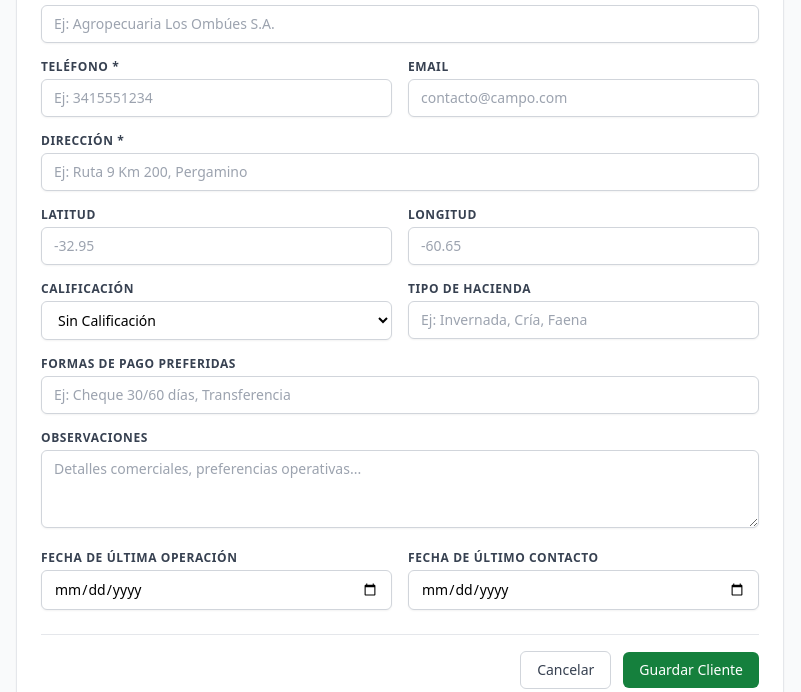
Test: ClienteForm › clears field-specific error when user types into that field
(page scrolled)
Click the button "Guardar Cliente" at point(691, 670), box [623,652,759,688]
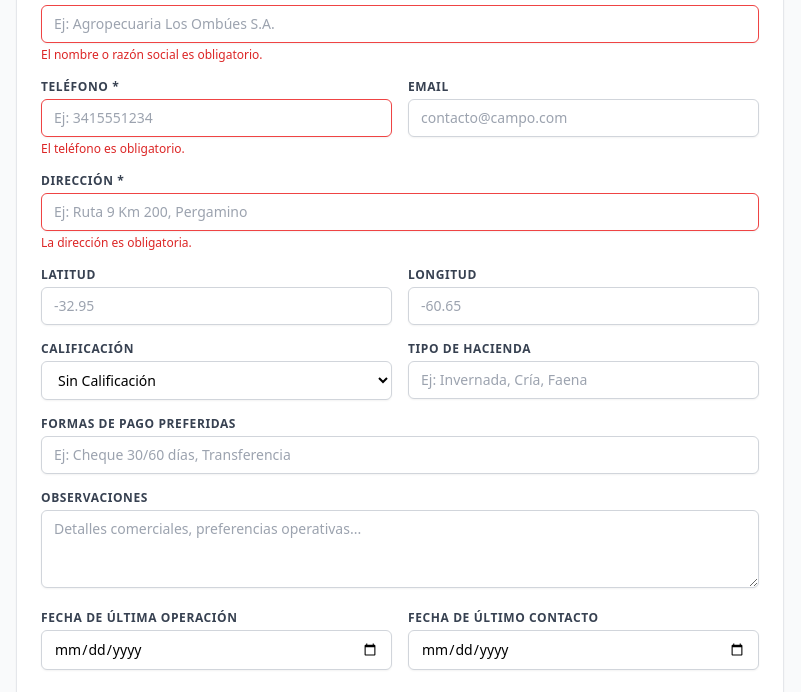
Now the text "El nombre o razón social es obligatorio." is shown, box [41,46,262,63]
Type "Agro Litoral" into the field labelled "Nombre / Razón Social *" at point(400, 24), box [41,5,759,43]
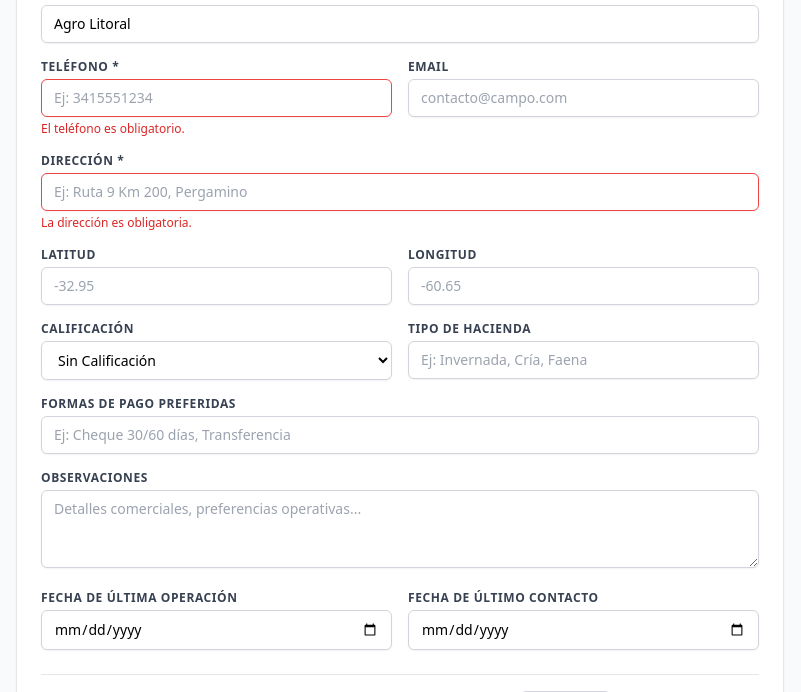
Now the text "El nombre o razón social es obligatorio." is gone
